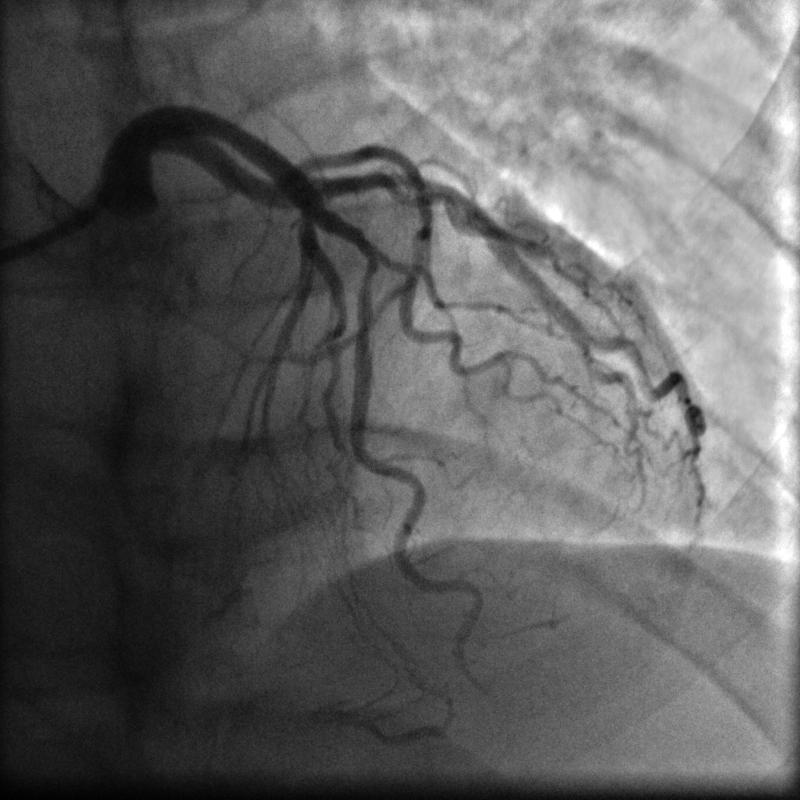Stenosis: (352, 237, 379, 313)
